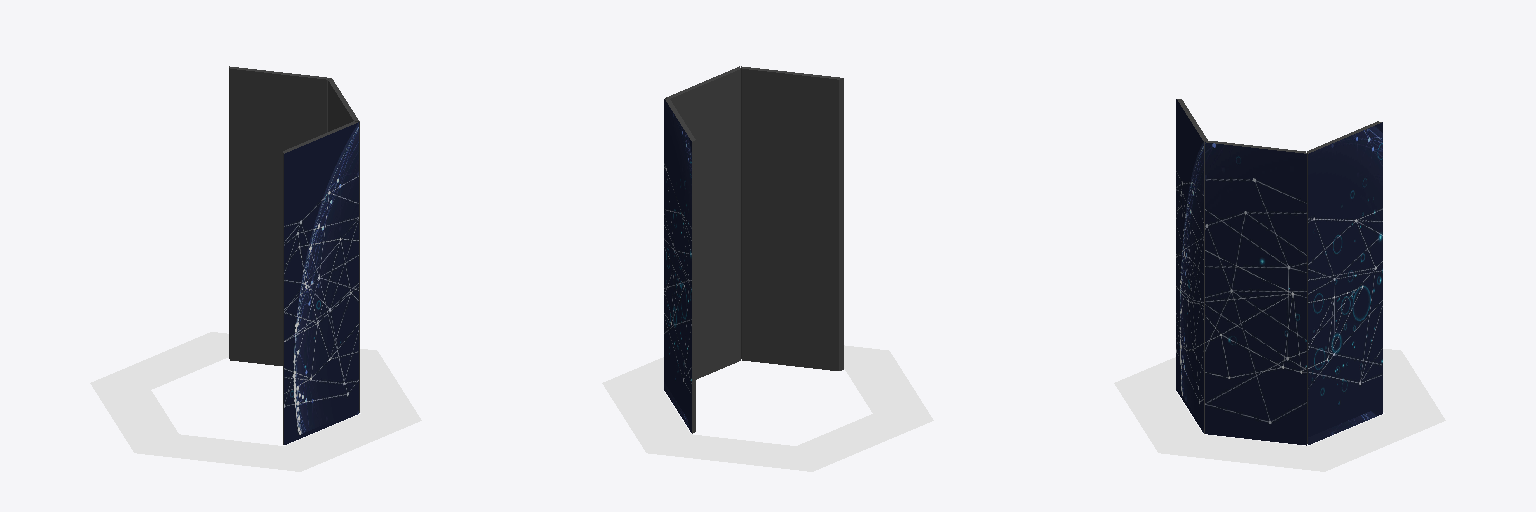
3 renders of one model, left to right at view 1: azimuth 30°, elevation 25°; view 2: azimuth 150°, elevation 25°; view 3: azimuth 270°, elevation 25°, orthographic.
Parts seen in each view (by area): view 1: Mesh162_Group142_Group129_Model, Mesh161_Group142_Group129_Model, Mesh163_Group143_Group129_Model, Mesh160_Group142_Group129_Model; view 2: Mesh162_Group142_Group129_Model, Mesh163_Group143_Group129_Model, Mesh160_Group142_Group129_Model, Mesh161_Group142_Group129_Model; view 3: Mesh160_Group142_Group129_Model, Mesh161_Group142_Group129_Model, Mesh163_Group143_Group129_Model, Mesh162_Group142_Group129_Model.
Part boxes in pixels (left/top/right/bottom): Mesh162_Group142_Group129_Model: left=283, top=121, right=358, bottom=444; Mesh161_Group142_Group129_Model: left=229, top=66, right=330, bottom=365; Mesh163_Group143_Group129_Model: left=90, top=332, right=421, bottom=471; Mesh160_Group142_Group129_Model: left=328, top=78, right=359, bottom=412; Mesh162_Group142_Group129_Model: left=741, top=66, right=843, bottom=370; Mesh163_Group143_Group129_Model: left=602, top=345, right=933, bottom=471; Mesh160_Group142_Group129_Model: left=665, top=66, right=740, bottom=379; Mesh161_Group142_Group129_Model: left=664, top=99, right=695, bottom=433; Mesh160_Group142_Group129_Model: left=1205, top=141, right=1306, bottom=445; Mesh161_Group142_Group129_Model: left=1307, top=121, right=1382, bottom=444; Mesh163_Group143_Group129_Model: left=1114, top=349, right=1445, bottom=471; Mesh162_Group142_Group129_Model: left=1176, top=99, right=1207, bottom=433.
Size of the model in its own units: 130 by 126 by 130.
3 materials, 1 textured.